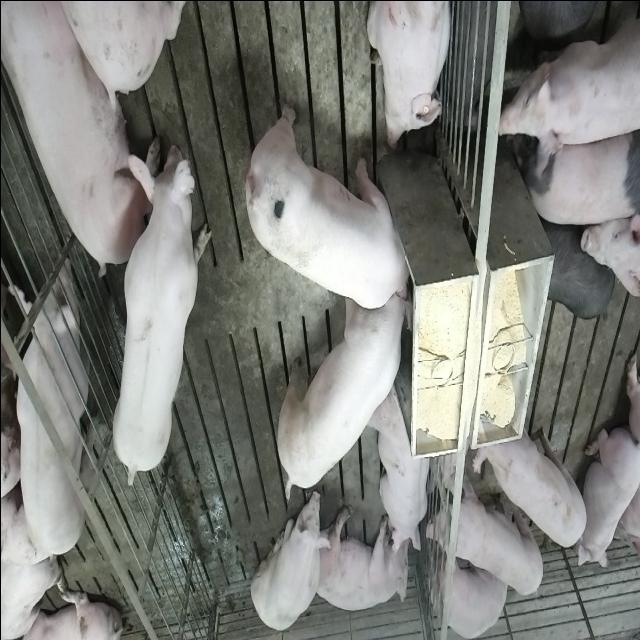Feeding: (248, 99, 420, 308), (274, 279, 409, 502)
Lateral_lying: (3, 3, 161, 278), (313, 504, 409, 612)
Sitting: (250, 484, 330, 632)
Standing: (106, 132, 208, 488), (0, 239, 96, 565), (497, 0, 638, 178), (473, 404, 588, 548), (425, 471, 543, 597), (518, 120, 636, 227), (540, 218, 614, 321)
Sternal_lying: (368, 0, 456, 150), (370, 379, 432, 554), (578, 418, 638, 568)
